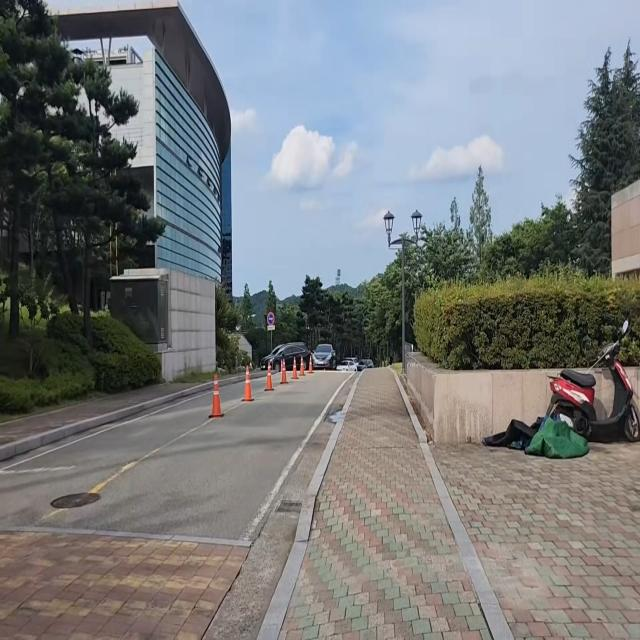obstacle: (538, 305, 640, 450), (206, 367, 228, 422), (240, 357, 256, 407)
sidewalk: (259, 367, 640, 640), (0, 381, 202, 452)
